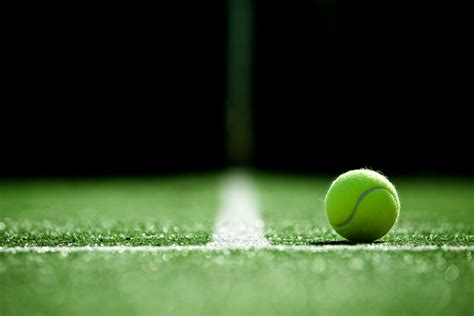tennis_ball: (325, 167, 401, 243)
